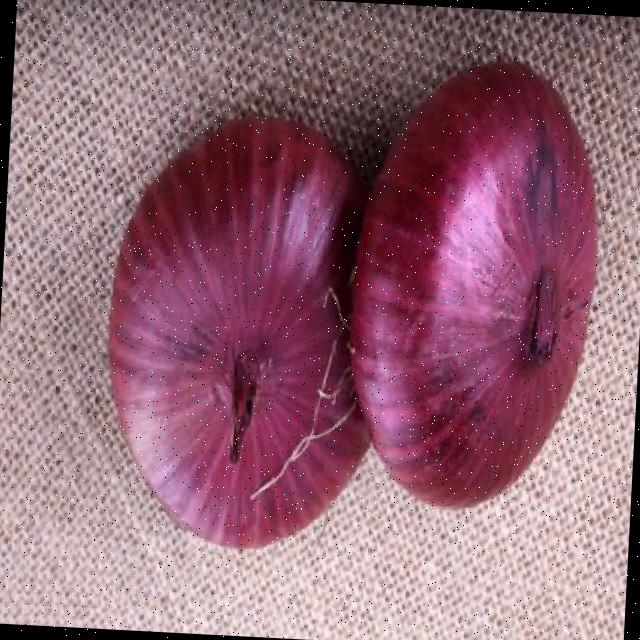Onion: (107, 117, 366, 547), (350, 61, 595, 508)
